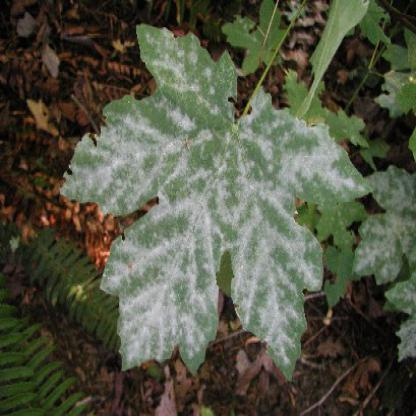squash powdery mildew leaf: (48, 23, 369, 377)
